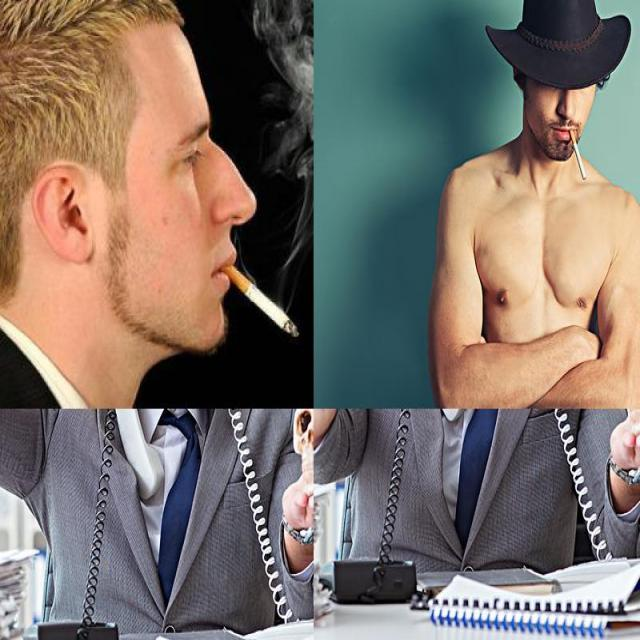smoke: (216, 255, 304, 348), (568, 128, 588, 180)
